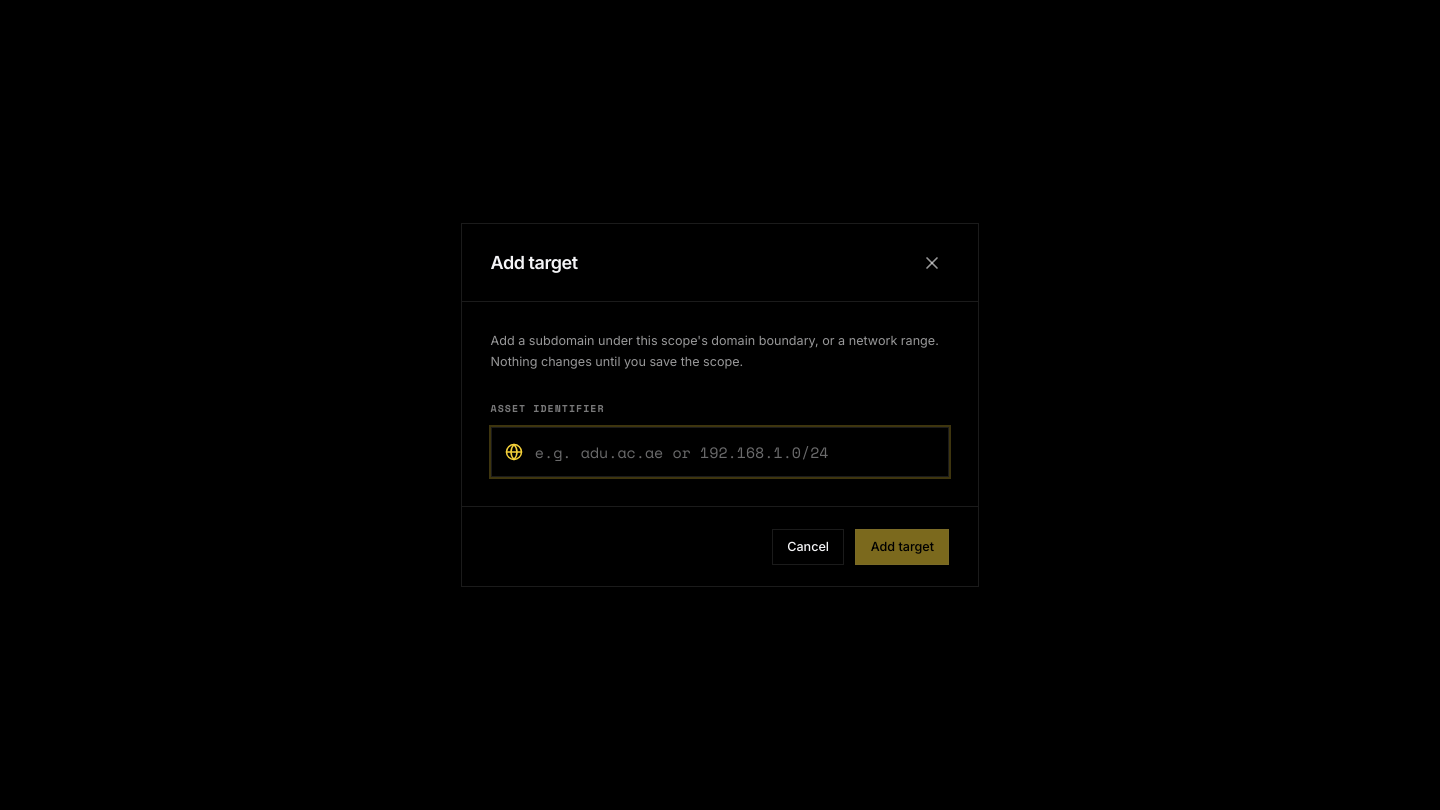
AddTargetModal › shows domain verification method options
Type "example.com" into the field at (720, 452), box [491,427,949,477]
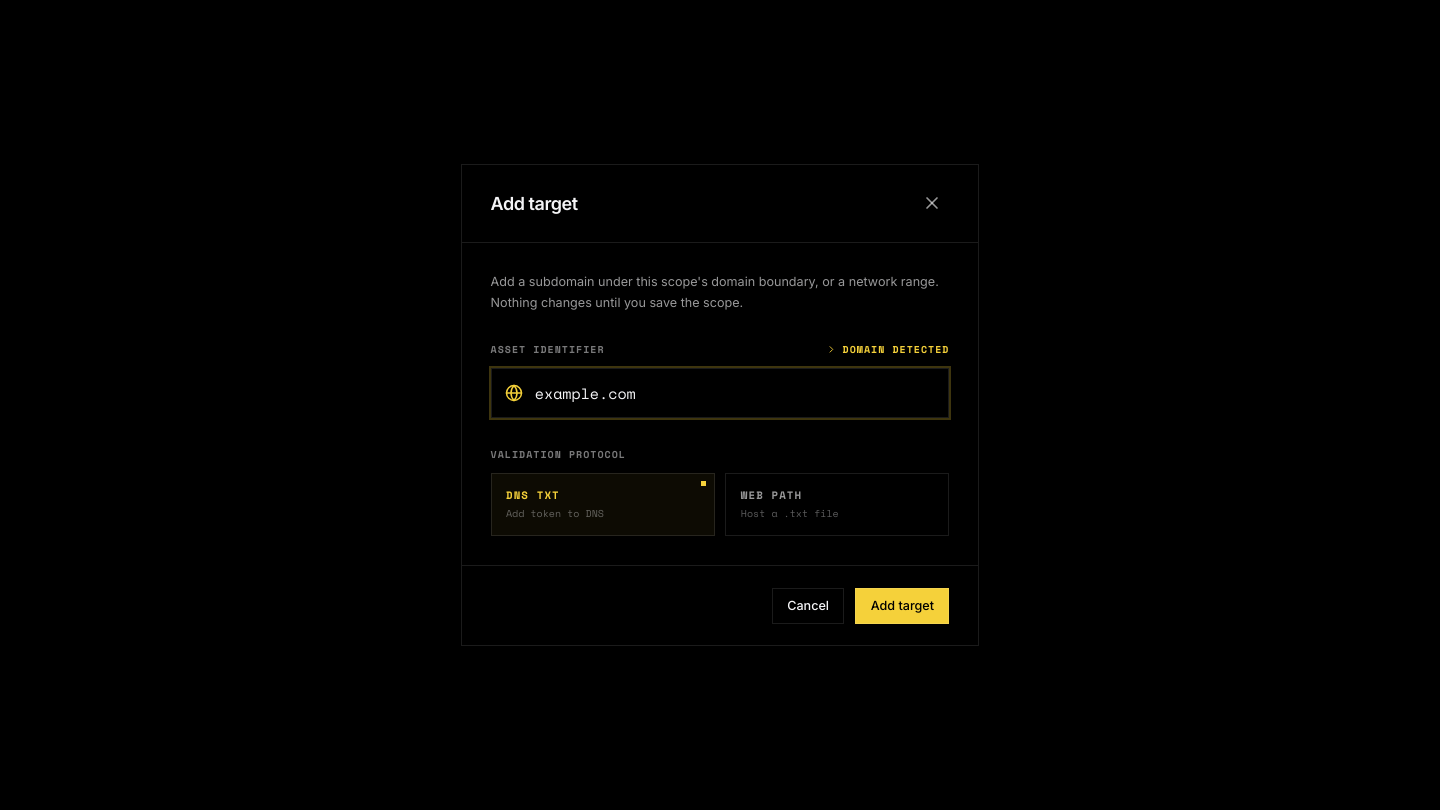
Now the text "Validation Protocol" is shown, box [491,447,626,462]
Now the button "DNS TXT Add token to DNS" is shown, box [491,472,715,536]
Now the button "Web Path Host a .txt file" is shown, box [725,472,949,536]
